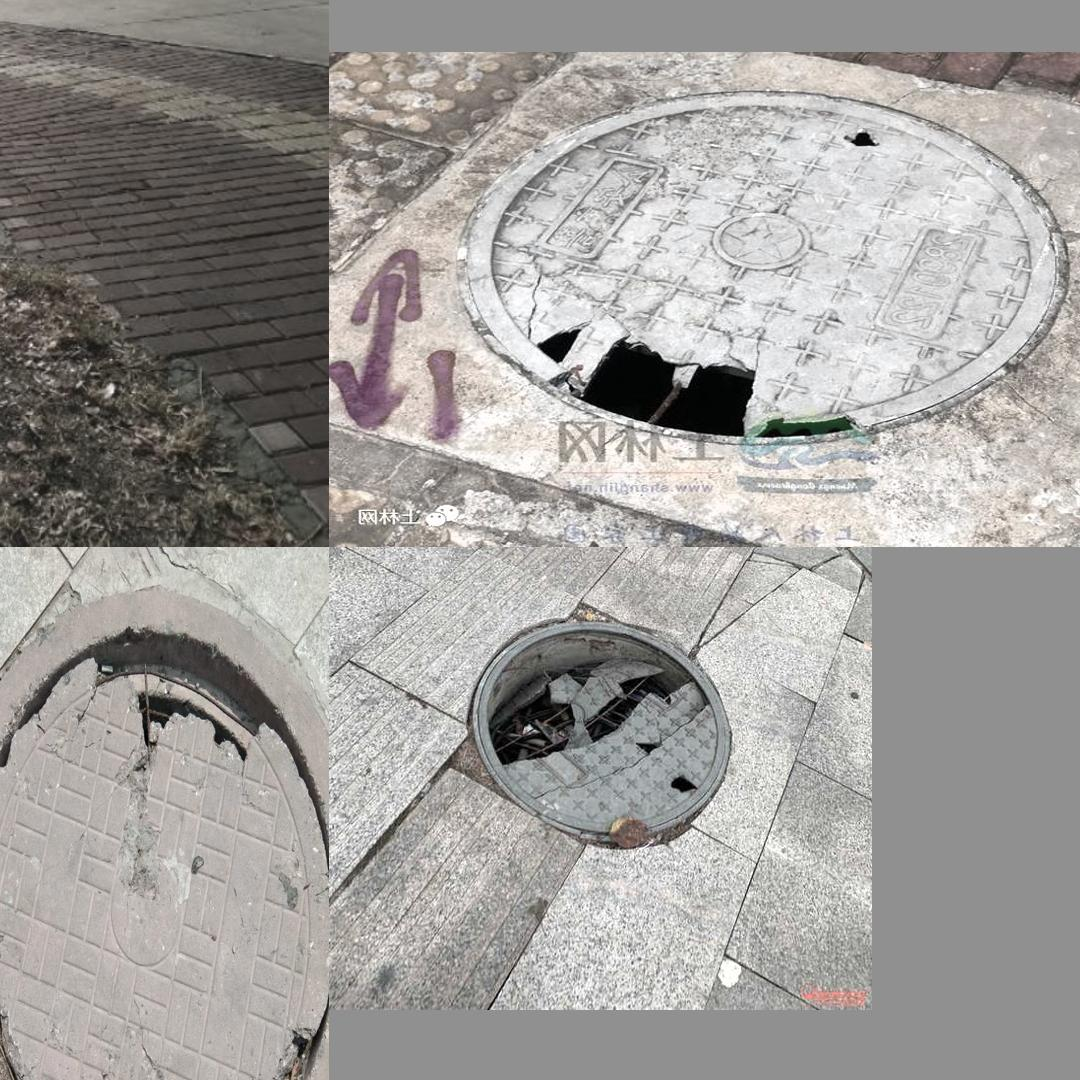broke: (441, 88, 1080, 466), (0, 586, 329, 1080), (464, 613, 742, 853)
